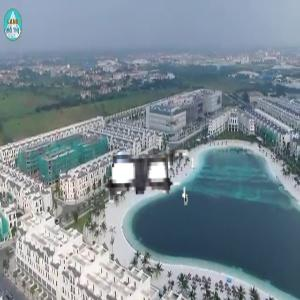drone: (84, 123, 198, 237)
